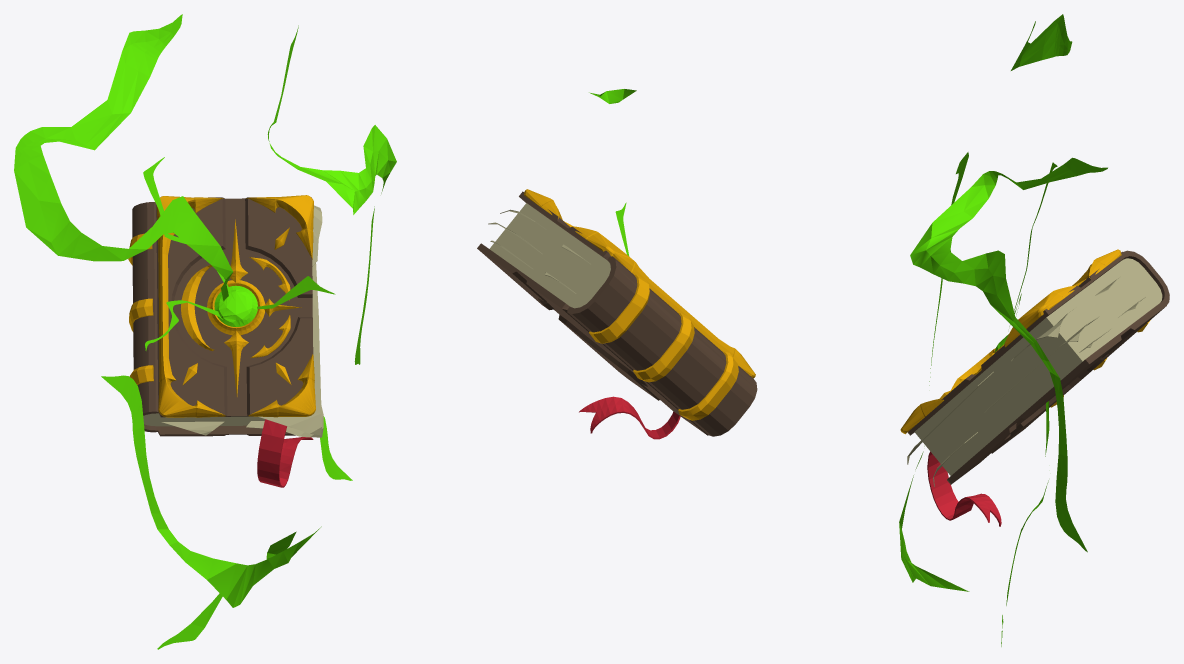
Rendered from mn_mimic.glb.
3 renders of one model, left to right at view 1: azimuth 30°, elevation 25°; view 2: azimuth 150°, elevation 25°; view 3: azimuth 270°, elevation 25°, orthographic. The views are drawn at different scales.
Visible parts, largest first — view 1: Evil Book; view 2: Evil Book; view 3: Evil Book.
Part boxes in pixels (x1,y1,x2,y2): Evil Book: (14, 14, 396, 649); Evil Book: (477, 89, 757, 439); Evil Book: (899, 14, 1169, 646).
Bounding box in the file's own units: 2.31 × 3.49 × 1.38.
Materials: 1 (1 with a texture image).
